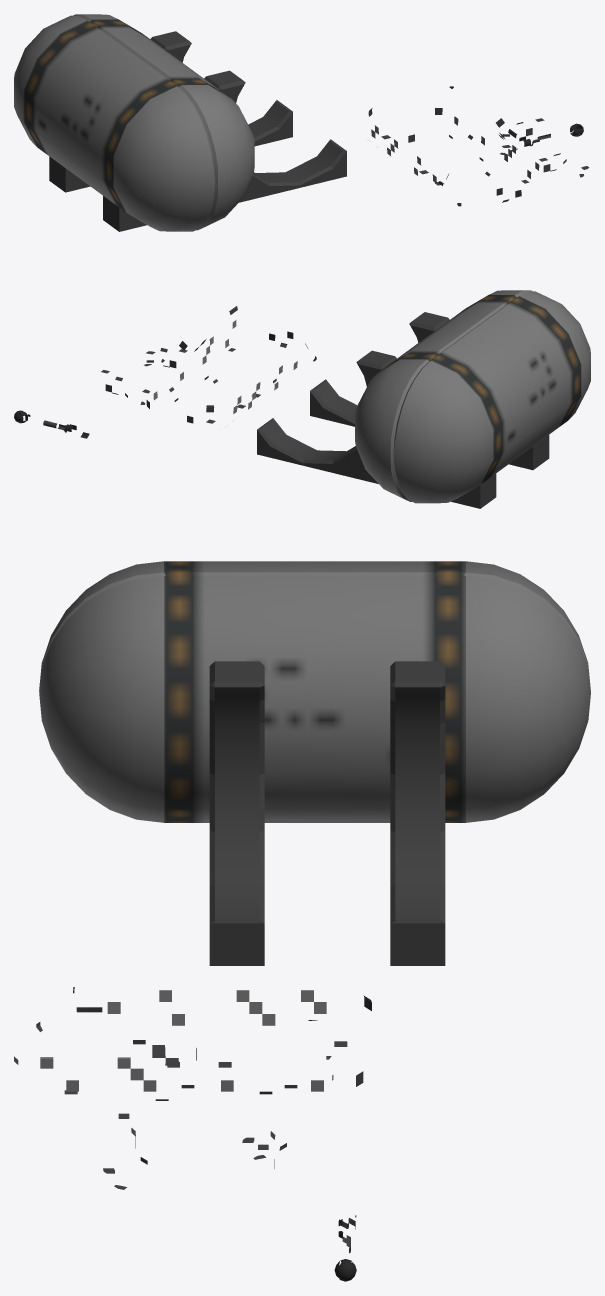
File: boston_dog.fbx
3 views of the same model, one above another, from view 1: azimuth 30°, elevation 25°; view 2: azimuth 150°, elevation 25°; view 3: azimuth 270°, elevation 25° (orthographic). The views are drawn at different scales.
Parts seen in each view (by area): view 1: boston_dog_capsule_left, boston_dog_capsule_right, boston_dog_capsule_base, boston_dog_body; view 2: boston_dog_capsule_left, boston_dog_capsule_right, boston_dog_capsule_base, boston_dog_body, boston_dog_leg_bottom; view 3: boston_dog_capsule_right, boston_dog_capsule_base, boston_dog_capsule_left, boston_dog_body.
Boxes of the visible parts, box(x1,y1,x2,y2) form: boston_dog_capsule_left: box(14, 15, 215, 231); boston_dog_capsule_right: box(73, 14, 254, 230); boston_dog_capsule_base: box(49, 31, 346, 231); boston_dog_body: box(368, 86, 539, 206); boston_dog_capsule_left: box(393, 291, 590, 503); boston_dog_capsule_right: box(355, 290, 532, 501); boston_dog_capsule_base: box(257, 312, 549, 508); boston_dog_body: box(146, 306, 316, 423); boston_dog_leg_bottom: box(14, 410, 89, 438); boston_dog_capsule_right: box(39, 576, 590, 822); boston_dog_capsule_base: box(209, 661, 445, 965); boston_dog_capsule_left: box(39, 561, 590, 690); boston_dog_body: box(14, 987, 371, 1100).
Size of the model in its own units: 202 by 73.57 by 115.
3 materials, 3 textured.
